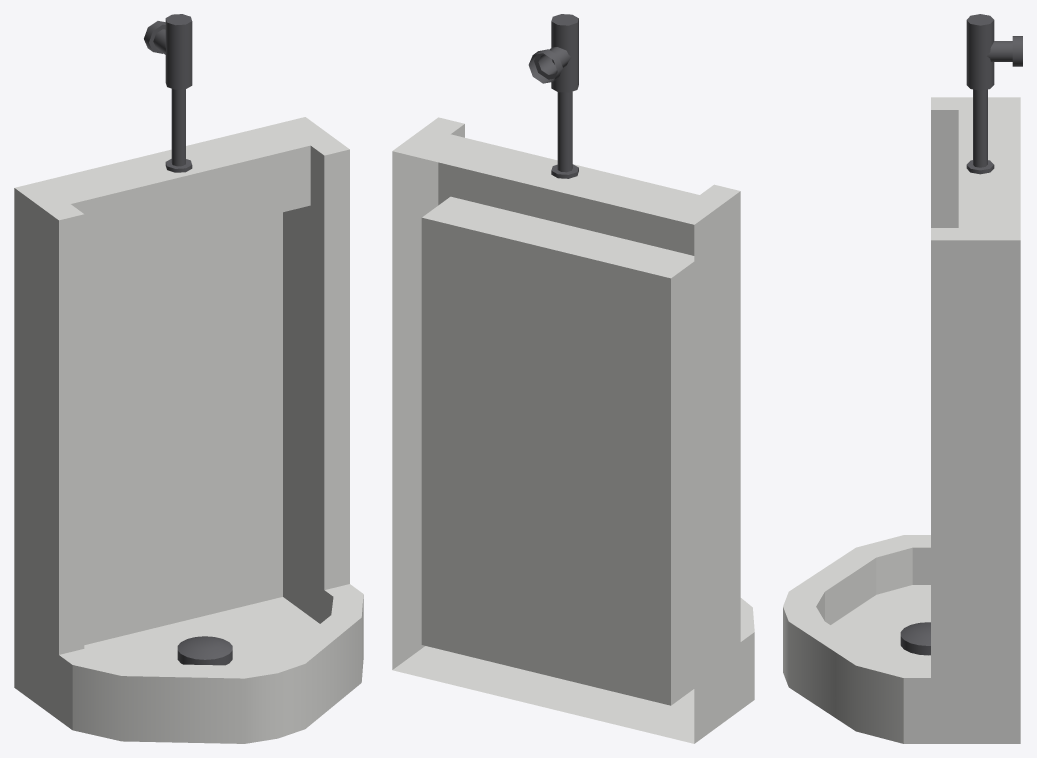
File: urinal.FBX
The picture shows the model from 3 angles, left to right: view 1: azimuth 30°, elevation 25°; view 2: azimuth 150°, elevation 25°; view 3: azimuth 270°, elevation 25°; orthographic projection. The views are drawn at different scales.
Parts seen in each view (by area): view 1: urinal; view 2: urinal; view 3: urinal.
Boxes of the visible parts, x1,y1,x2,y2 form: urinal: [14, 14, 363, 743]; urinal: [392, 14, 754, 743]; urinal: [783, 14, 1022, 743].
Bounding box in the file's own units: 12.57 × 8.91 × 26.73.
